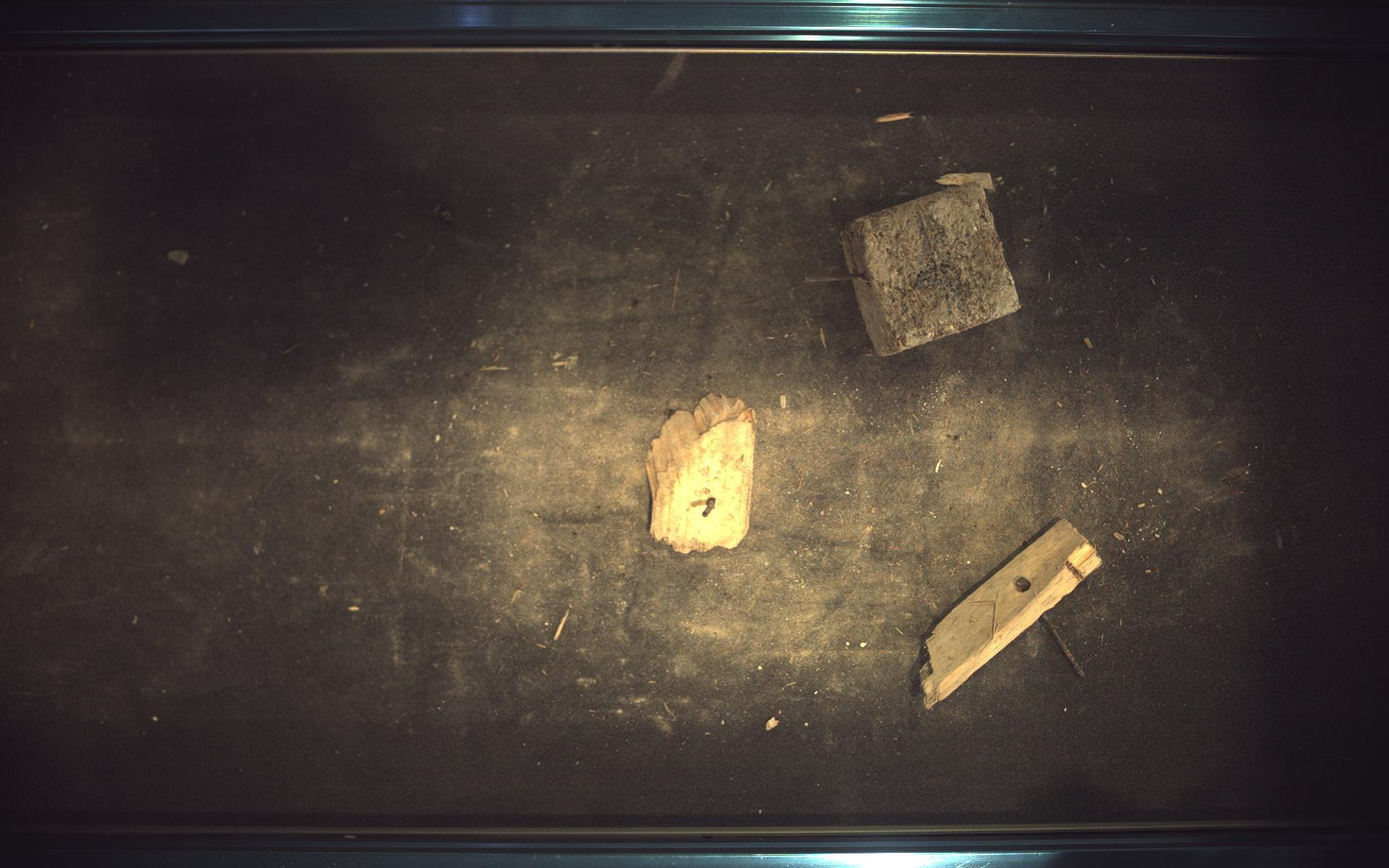wood: (922, 519, 1105, 710), (842, 173, 1023, 356), (647, 393, 757, 554)
